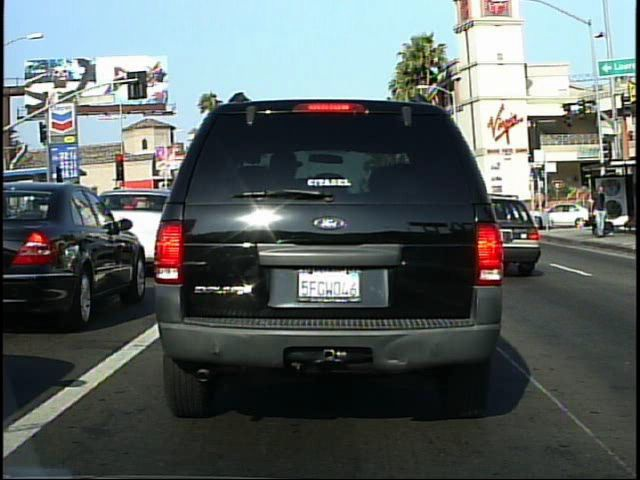person: (589, 185, 610, 242), (595, 184, 614, 241)
